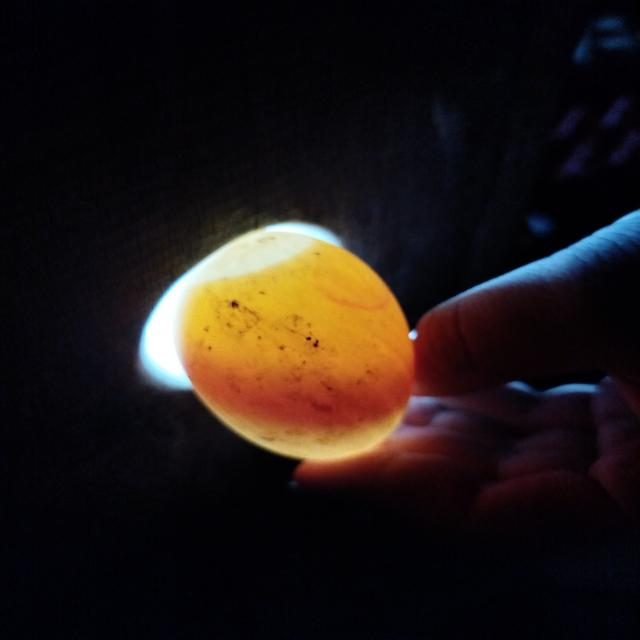Camara de Ar: (189, 232, 313, 288)
Gema Quebrada: (176, 343, 417, 426)
